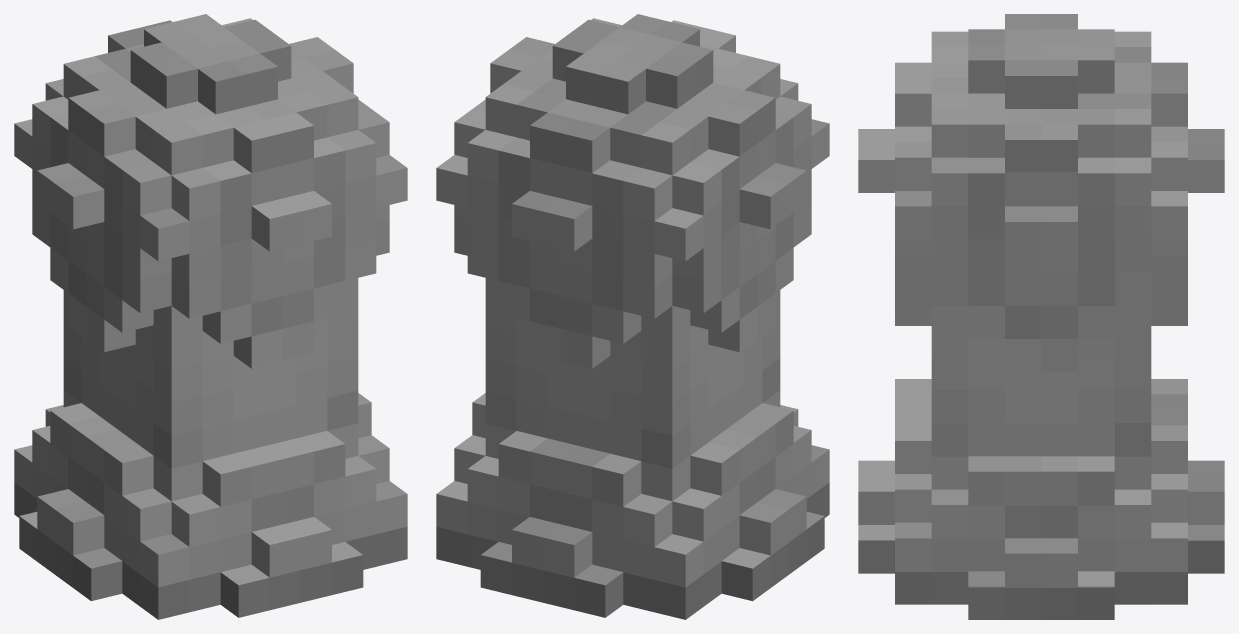
File: ws2tri.obj
The picture shows the model from 3 angles, left to right: view 1: azimuth 30°, elevation 25°; view 2: azimuth 150°, elevation 25°; view 3: azimuth 270°, elevation 25°; orthographic projection.
Parts seen in each view (by area): view 1: Cube.001_Cube.003; view 2: Cube.001_Cube.003; view 3: Cube.001_Cube.003.
Boxes of the visible parts, bbox=[...] form: Cube.001_Cube.003: bbox=[14, 14, 407, 619]; Cube.001_Cube.003: bbox=[436, 14, 829, 619]; Cube.001_Cube.003: bbox=[858, 14, 1224, 619].
Bounding box in the file's own units: 0.5023 × 0.7534 × 0.5023.
